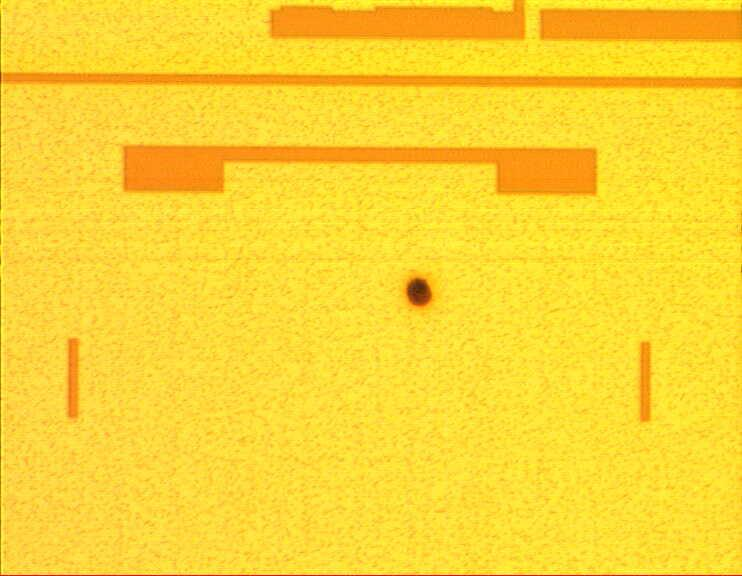PARTICLE: (402, 276, 434, 308)
